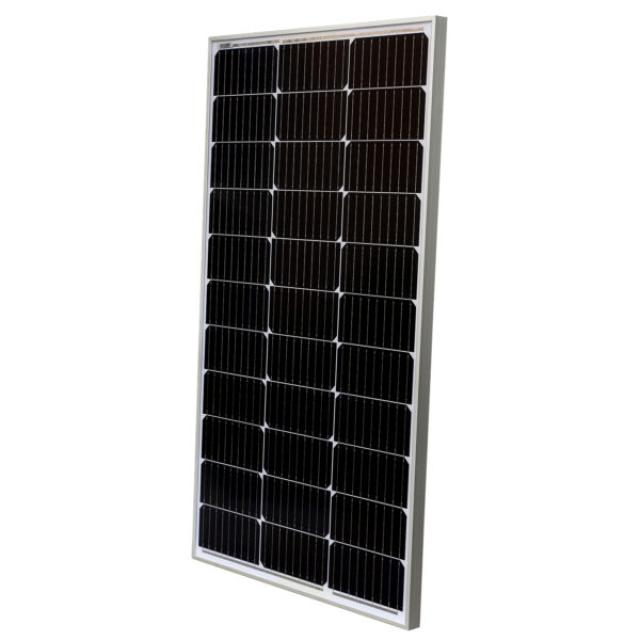clean-solar-panel: (199, 26, 438, 611)
